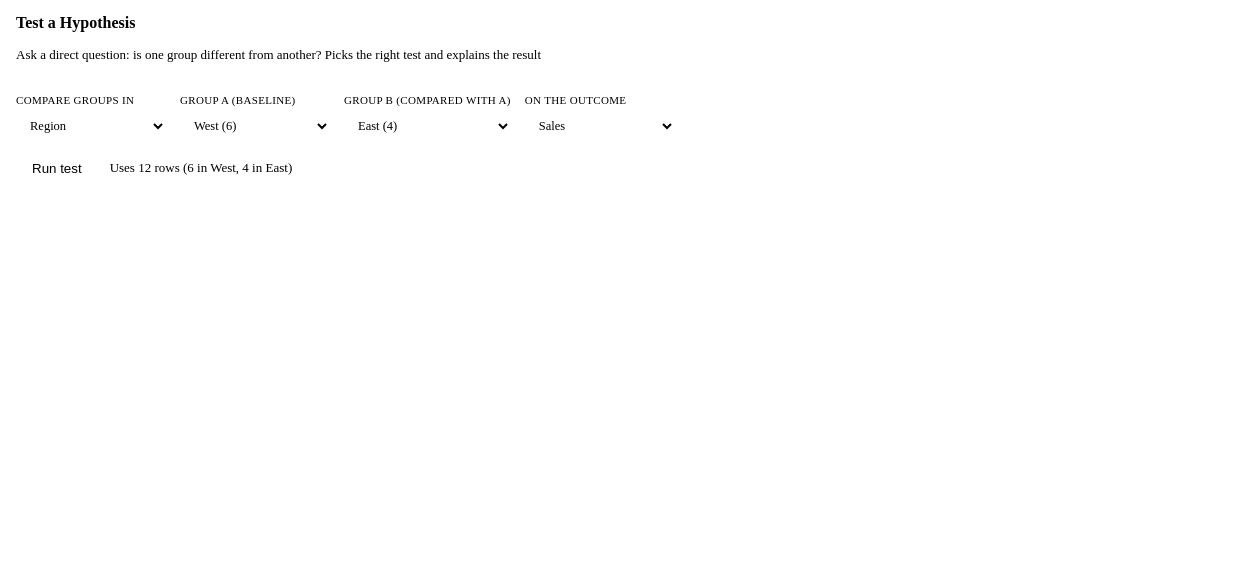
Test: HypothesisTestPanel › a categorical result shows the rate per group and the relative risk
The width and height of the screenshot is (1253, 585).
Step 1. Select "Category" in the dropdown labelled "On the outcome" → [600, 126], box [525,110,675,140]
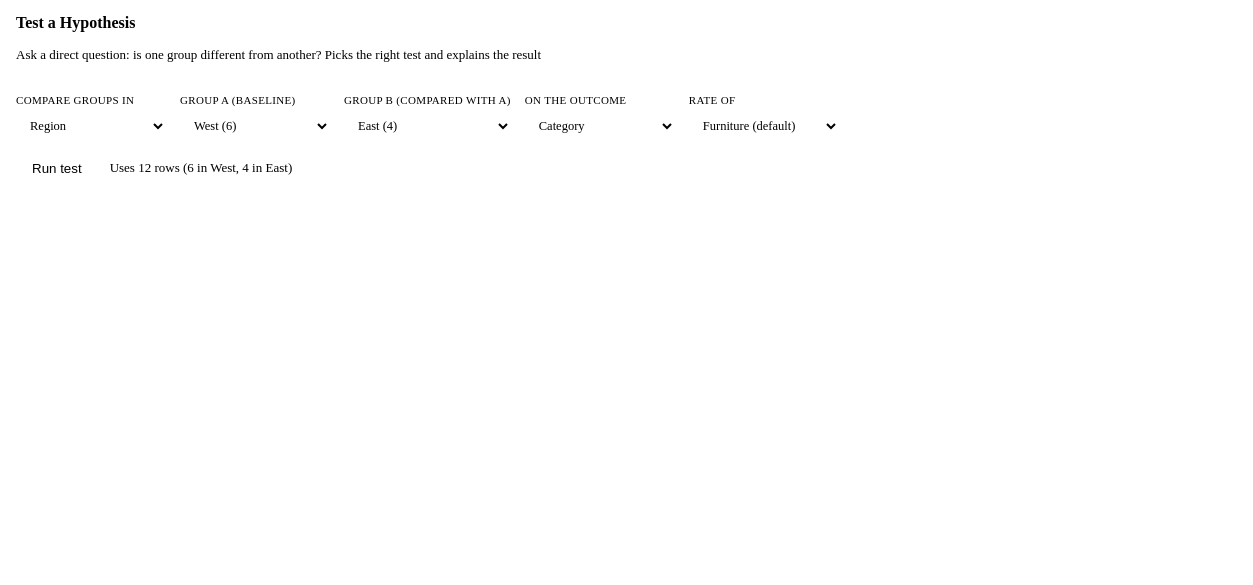
Step 2. Click the button "Run test" → [57, 168], box [16,152,98,184]
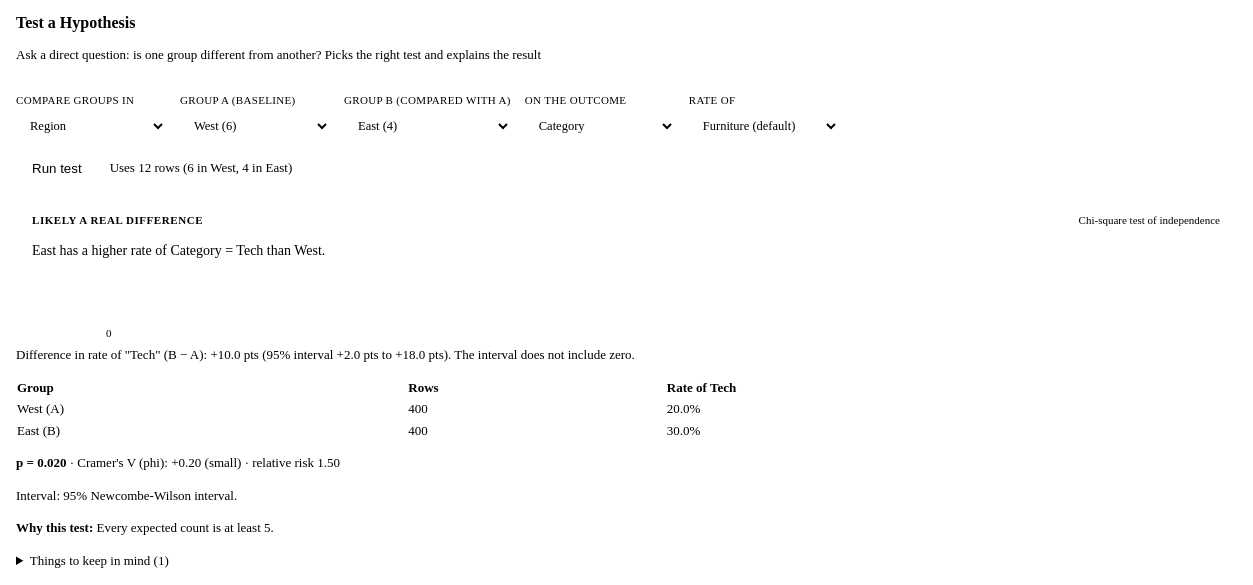
Now the text "Likely a real difference" is shown, box [32,214,203,226]
Now the text "20.0%" is shown, box [666,398,1236,420]
Now the text "30.0%" is shown, box [666,420,1236,441]
